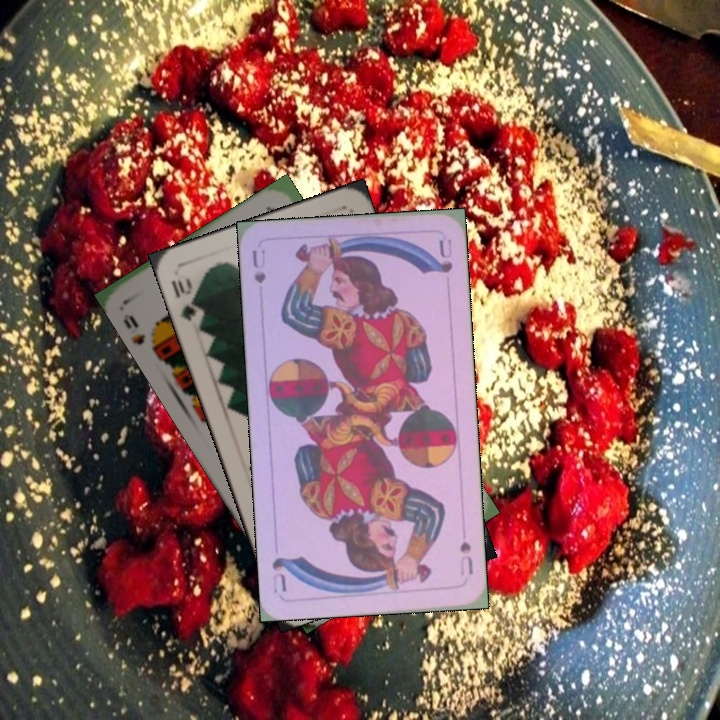G10: (167, 273, 203, 324)
S9: (119, 310, 163, 355)
SU: (455, 537, 476, 578), (248, 245, 268, 286)
